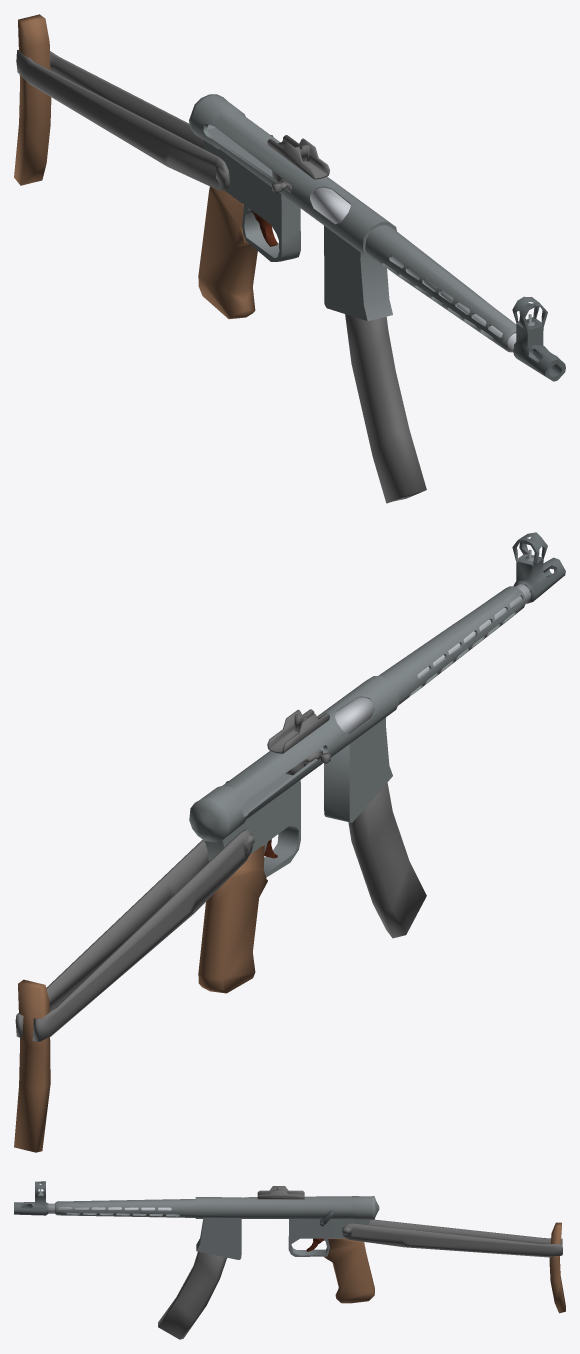
The model's file is kucher_k1.fbx.
3 renders of one model, top to bottom at view 1: azimuth 30°, elevation 25°; view 2: azimuth 150°, elevation 25°; view 3: azimuth 270°, elevation 25°, orthographic. The views are drawn at different scales.
Parts seen in each view (by area): view 1: kucher_k1; view 2: kucher_k1; view 3: kucher_k1.
Part boxes in pixels (x1,y1,x2,y2): kucher_k1: [14, 14, 565, 503]; kucher_k1: [14, 532, 565, 1152]; kucher_k1: [14, 1181, 565, 1339].
Bounding box in the file's own units: 3.33 × 19.07 × 60.78.
1 material, 1 textured.
